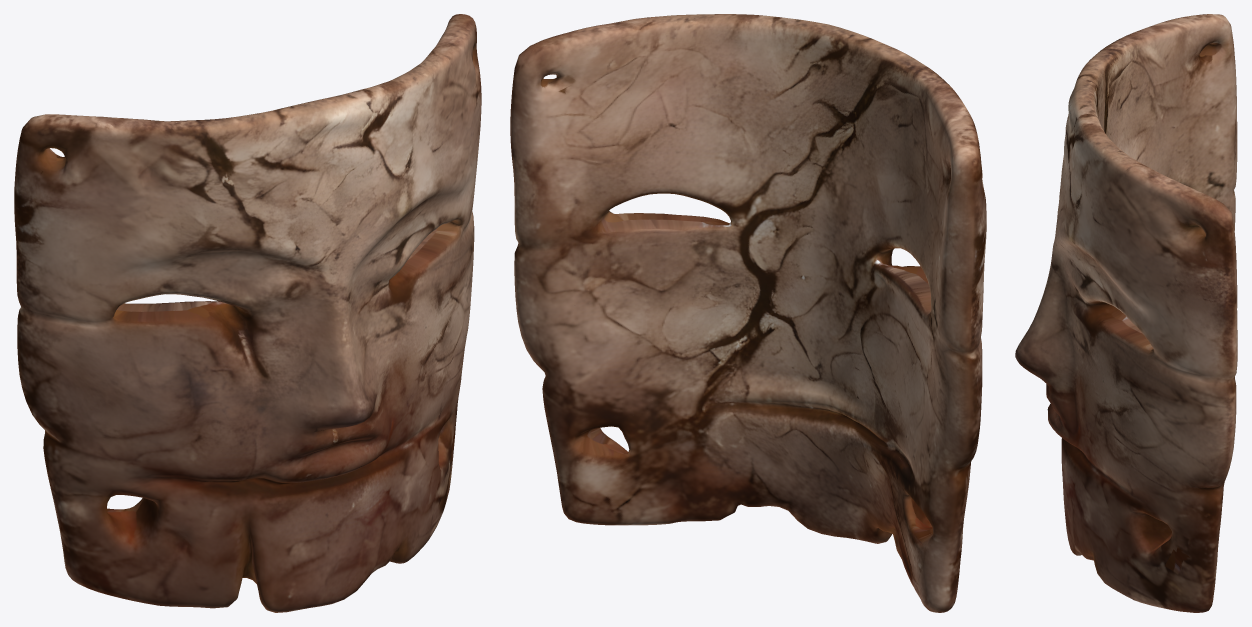
File: ancient_carved_stone_face_mask.glb
3 renders of one model, left to right at view 1: azimuth 30°, elevation 25°; view 2: azimuth 150°, elevation 25°; view 3: azimuth 270°, elevation 25°, orthographic. The views are drawn at different scales.
Visible parts, largest first — view 1: Object_2; view 2: Object_2; view 3: Object_2.
Part boxes in pixels (<box>): Object_2: <box>14,14,481,612</box>; Object_2: <box>510,14,986,612</box>; Object_2: <box>1015,14,1237,612</box>.
Size of the model in its own units: 1.8 by 1.88 by 0.8314.
1 material, 1 textured.
